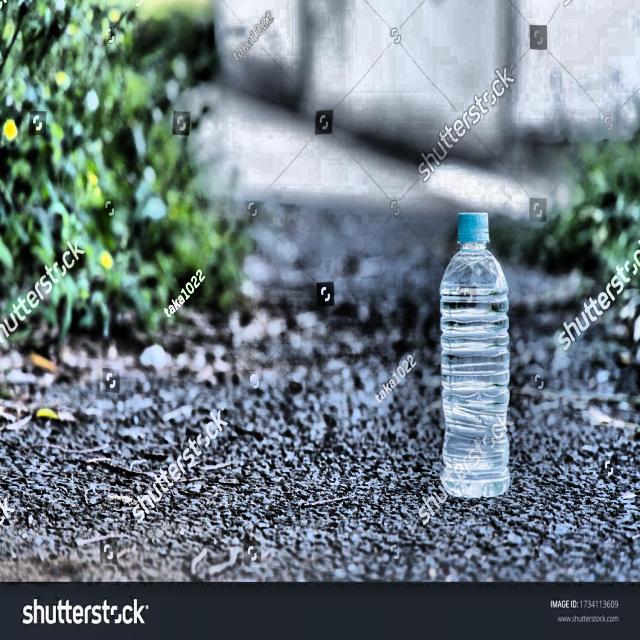Bottles: (422, 193, 519, 546)
